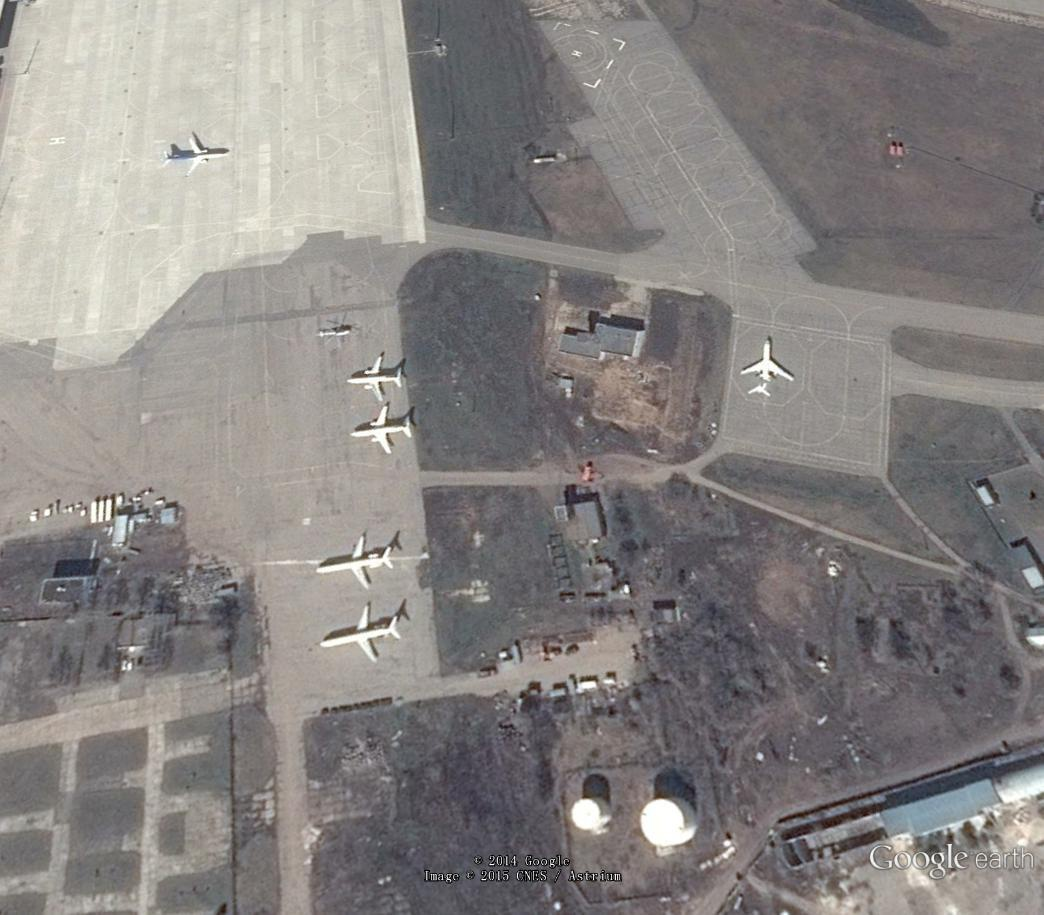aircraft: (316, 600, 408, 675), (309, 529, 399, 592), (735, 334, 799, 406), (345, 402, 417, 460), (157, 132, 232, 184), (340, 351, 408, 405)
